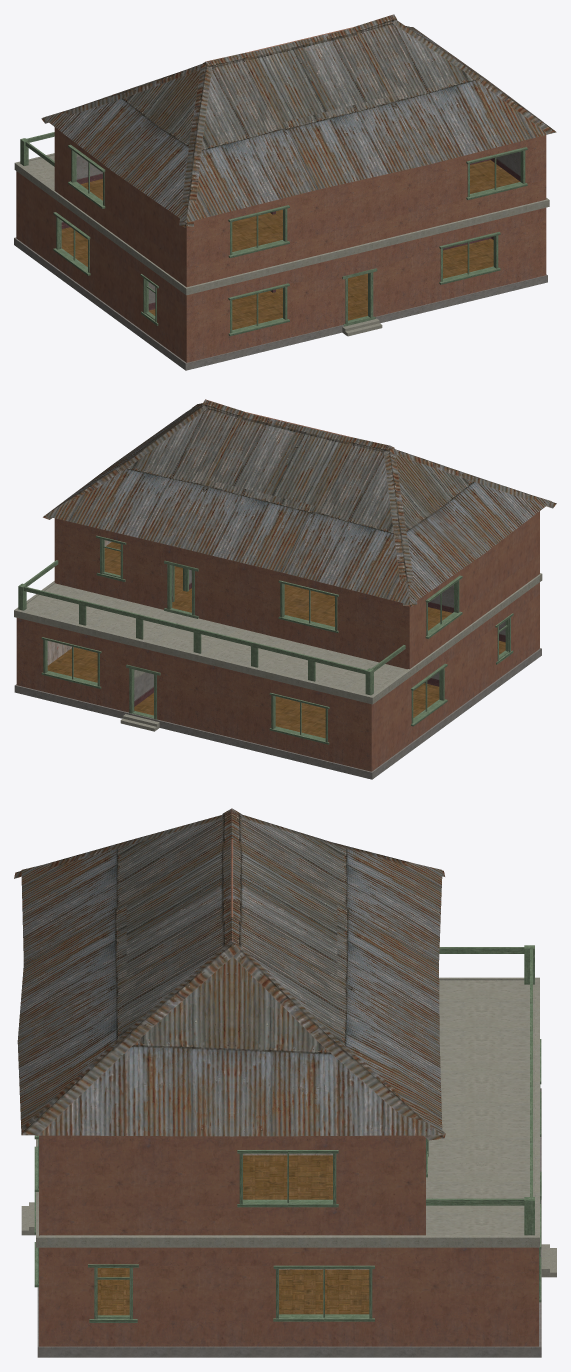
Rendered from BuildingLarge2c012048.glb.
The picture shows the model from 3 angles, top to bottom: view 1: azimuth 30°, elevation 25°; view 2: azimuth 150°, elevation 25°; view 3: azimuth 270°, elevation 25°; orthographic projection. The views are drawn at different scales.
Visible parts, largest first — view 1: xiutz_building_large_2c_01_2; view 2: xiutz_building_large_2c_01_2; view 3: xiutz_building_large_2c_01_2.
Boxes of the visible parts, x1,y1,x2,y2 form: xiutz_building_large_2c_01_2: [14, 14, 556, 370]; xiutz_building_large_2c_01_2: [14, 399, 556, 779]; xiutz_building_large_2c_01_2: [14, 808, 556, 1357].
Size of the model in its own units: 25.18 by 15.38 by 21.41.
1 material, 1 textured.
